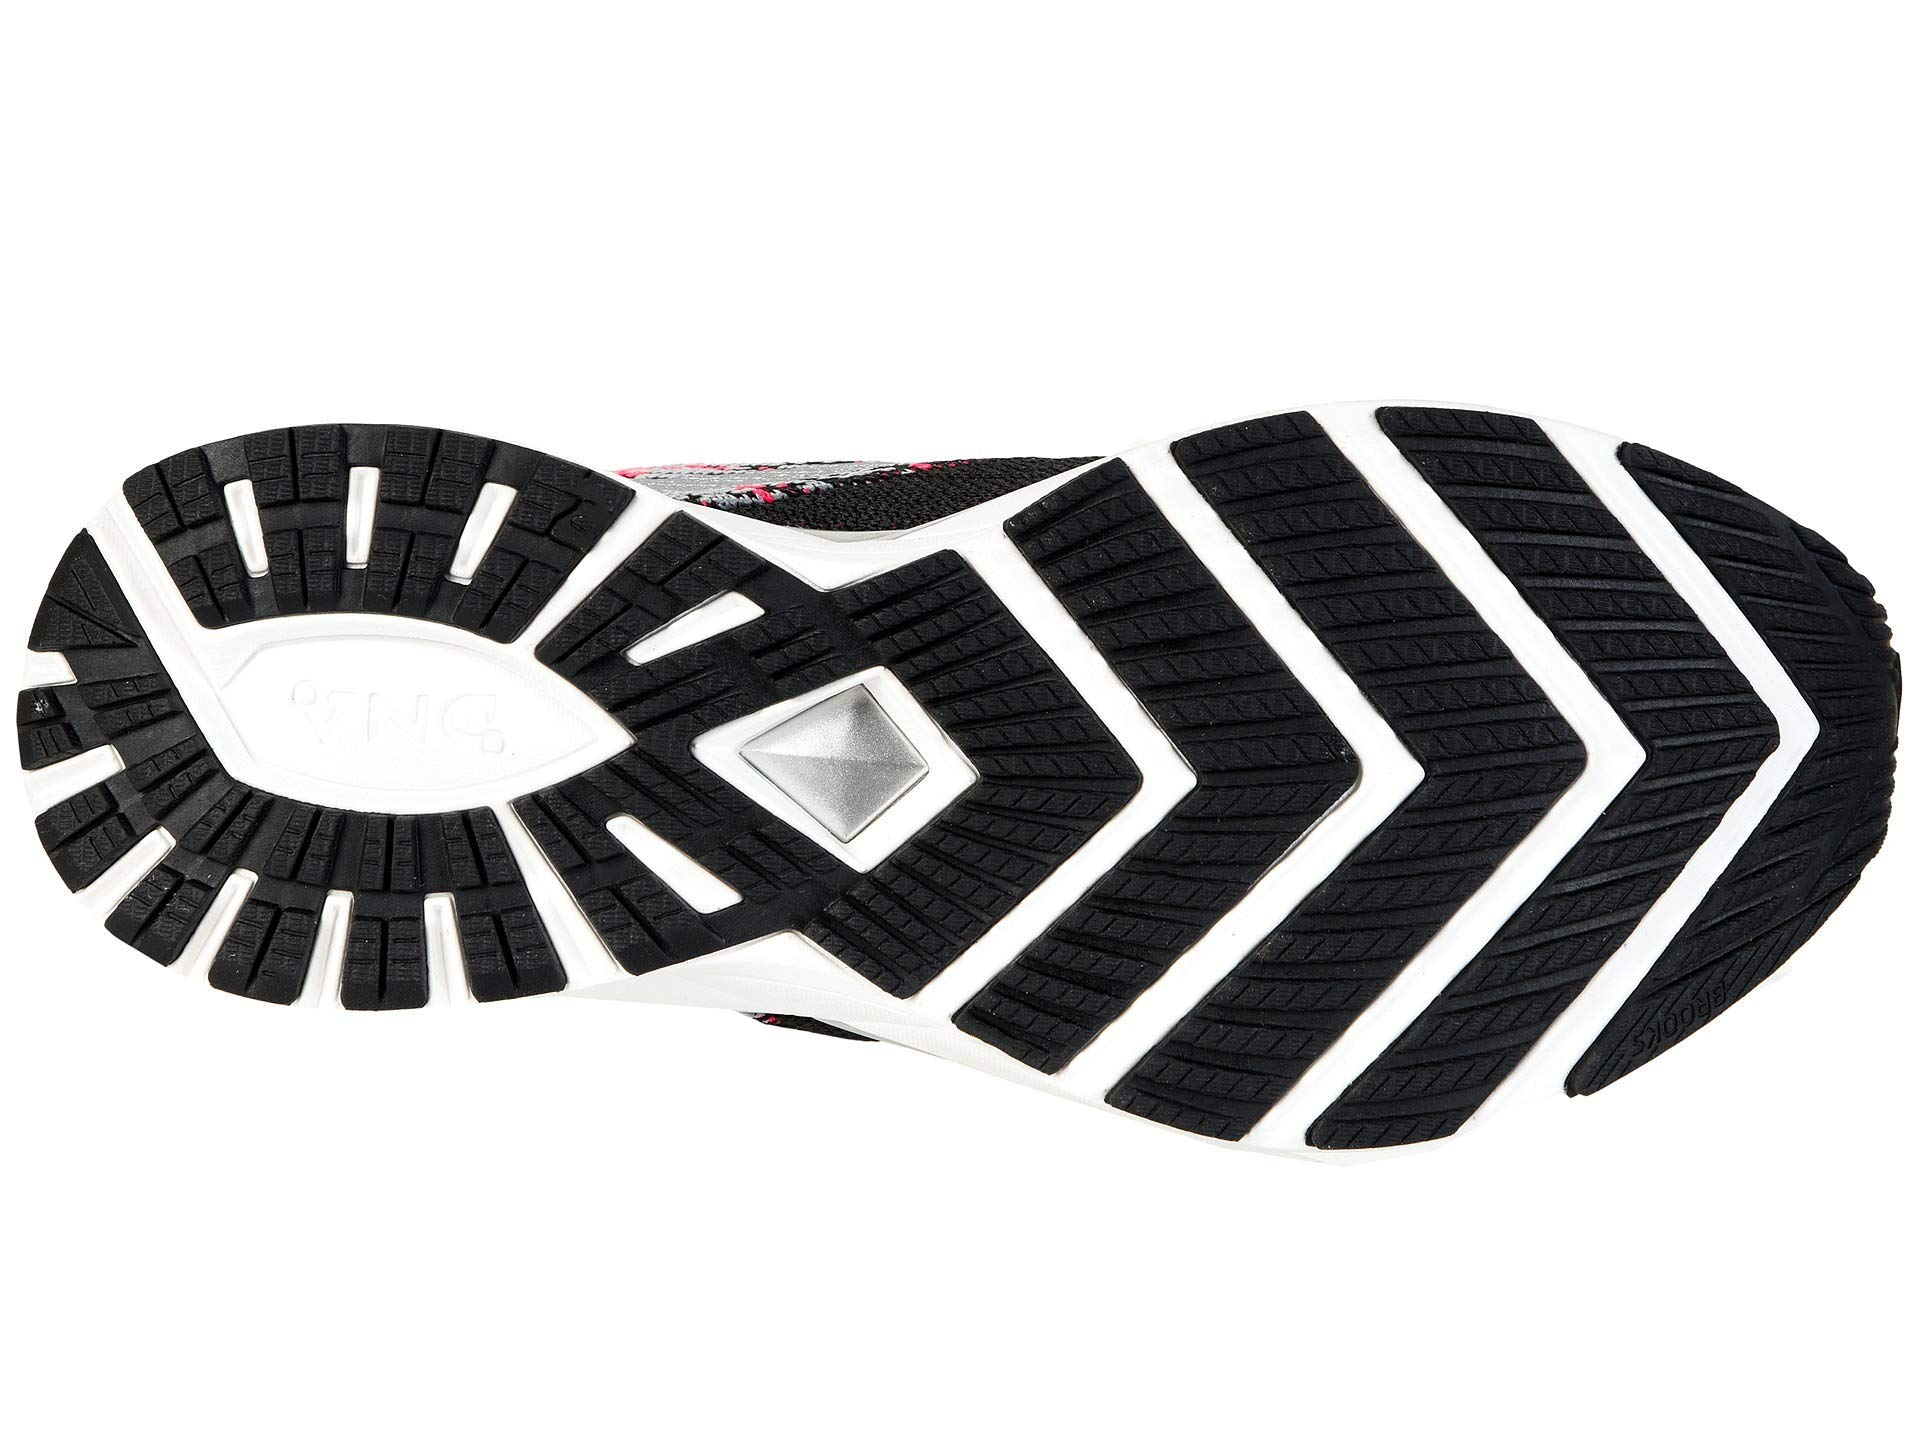chevron: (1033, 585, 1840, 939)
circle: (263, 650, 550, 771)
quad: (1033, 585, 1840, 939), (195, 765, 519, 994), (714, 663, 996, 871), (305, 439, 407, 591), (440, 460, 528, 608)
text: (263, 650, 550, 771)
